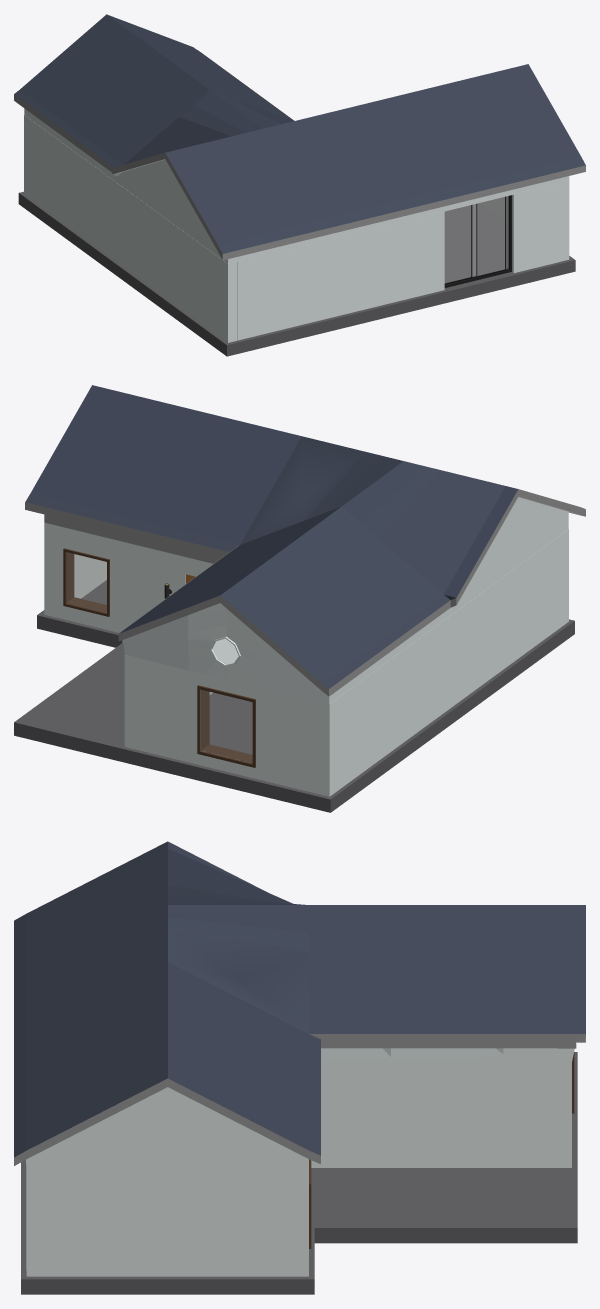
File: maison1.glb
3 views of the same model, one above another, from view 1: azimuth 30°, elevation 25°; view 2: azimuth 150°, elevation 25°; view 3: azimuth 270°, elevation 25° (orthographic). The views are drawn at different scales.
Parts seen in each view (by area): view 1: Cube_8.003, Mur_Ch02_Ext_01, Mur_Ch02_Ext_02, Cube_8.002, Cube_8, Mur_Ch01_Ext_02, Fenetre_Ch01_02, Sol_Ch01, Cube.004_4; view 2: Cube_8.003, Mur_Ch02_Ext_02, Cube_8, Cube_8.002, Mur_Ch03_Ext_03, Mur_Ch01_Ext_05, Fenetre_Ch03.001, Sol_Ch03, Fenetre_Ch01_01, Cube_8.005, Mur_Ch01_Int_01; view 3: Cube_8.003, Mur_Ch01_Ext_01, Cube_8.002, Mur_Ch03_Ext_04, Cube_8, Cube_8.006.
Part boxes in pixels (x1,y1,x2,y2): Cube_8.003: (14,14,585,260); Mur_Ch02_Ext_01: (228,211,444,342); Mur_Ch02_Ext_02: (24,115,227,342); Cube_8.002: (18,191,575,356); Cube_8: (24,108,569,263); Mur_Ch01_Ext_02: (513,181,569,272); Fenetre_Ch01_02: (445,197,504,282); Sol_Ch01: (444,203,508,283); Cube.004_4: (444,195,511,287); Cube_8.003: (25,385,585,696); Mur_Ch02_Ext_02: (329,529,568,796); Cube_8: (63,497,568,767); Cube_8.002: (14,610,574,812); Mur_Ch03_Ext_03: (124,654,329,796); Mur_Ch01_Ext_05: (44,522,212,632); Fenetre_Ch03.001: (201,690,252,762); Sol_Ch03: (209,693,252,754); Fenetre_Ch01_01: (66,552,106,612); Cube_8.005: (44,514,221,563); Mur_Ch01_Int_01: (74,554,106,598); Cube_8.003: (14,841,585,1165); Mur_Ch01_Ext_01: (26,1171,308,1276); Cube_8.002: (21,1052,577,1294); Mur_Ch03_Ext_04: (311,1062,571,1167); Cube_8: (26,1034,575,1248); Cube_8.006: (309,1034,585,1048).
Size of the model in its own units: 49.33 by 21.47 by 50.31.
